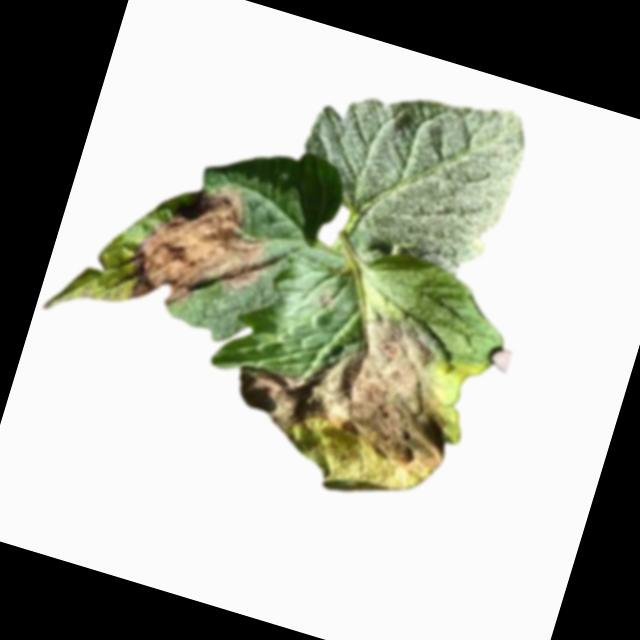Late_blight: (213, 283, 478, 520), (120, 163, 286, 336)
healthy: (279, 54, 536, 287)
